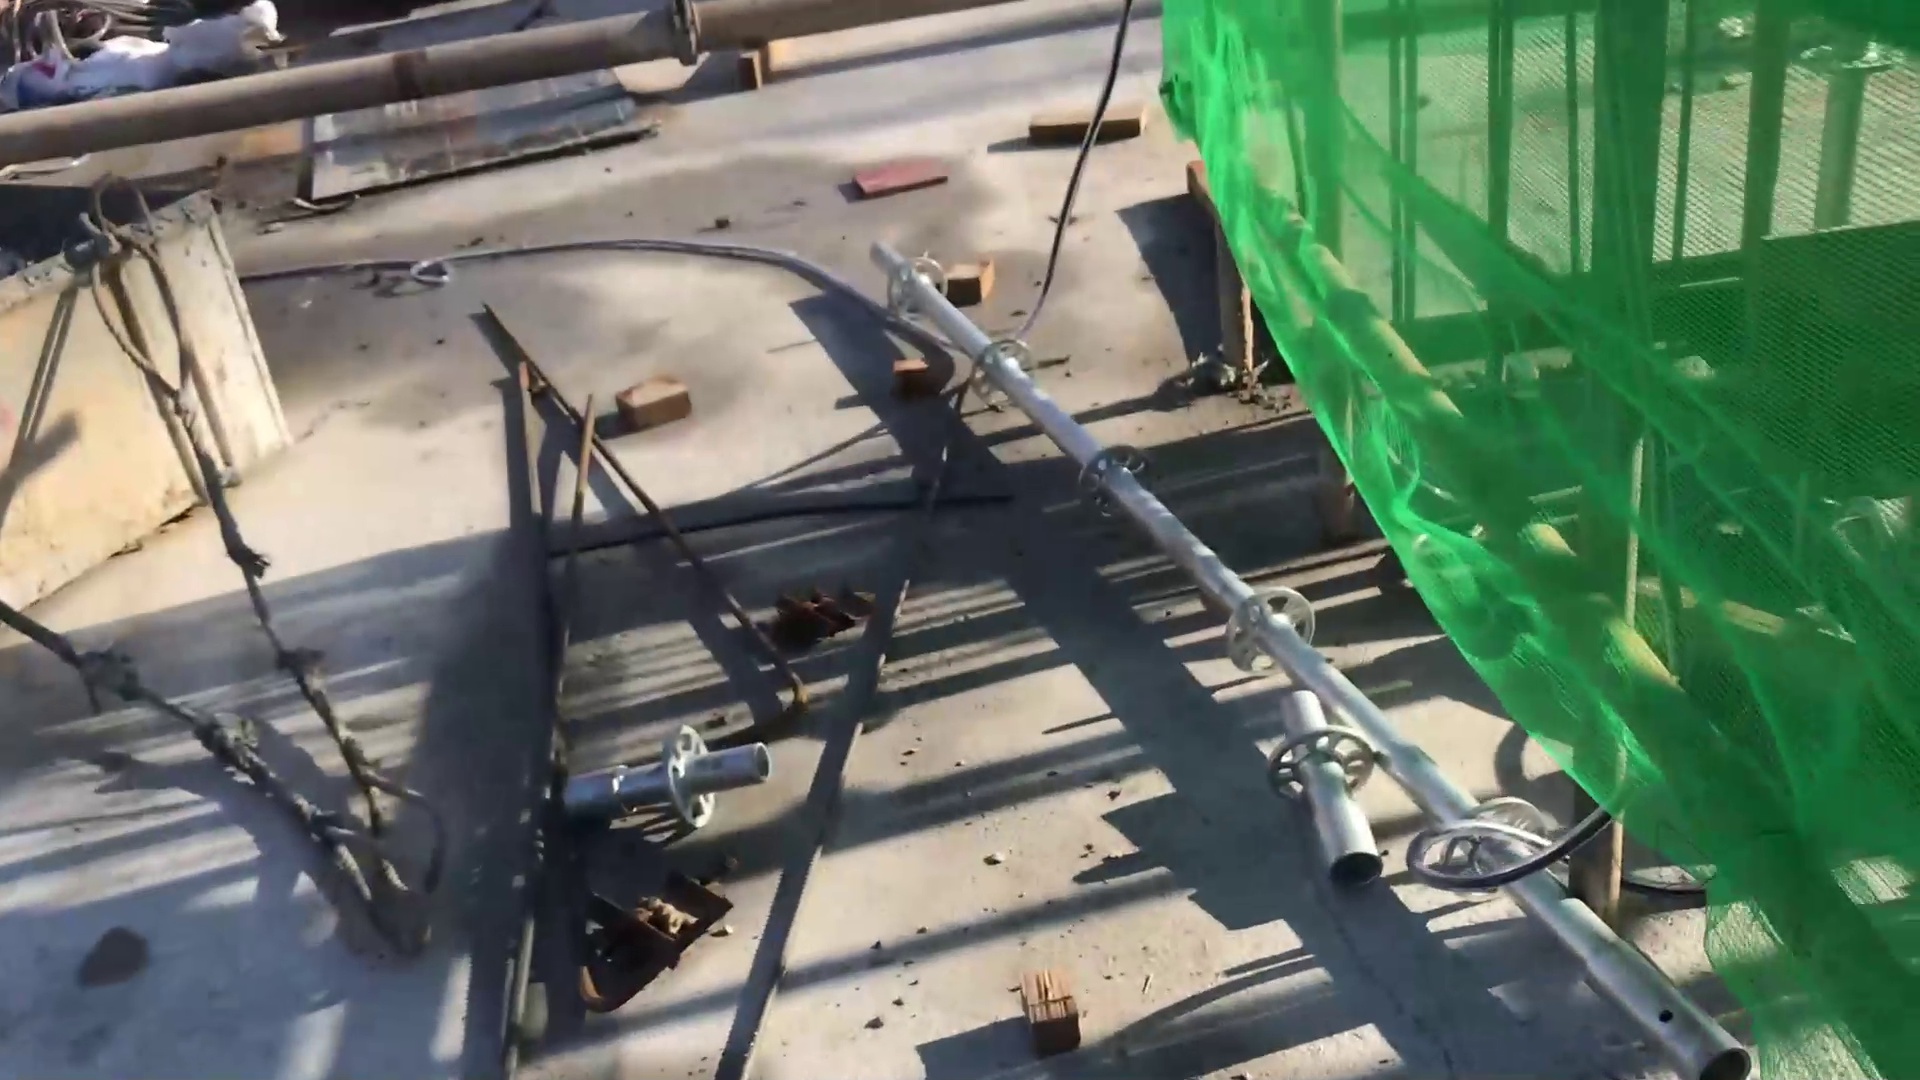hopper: (16, 162, 270, 632)
